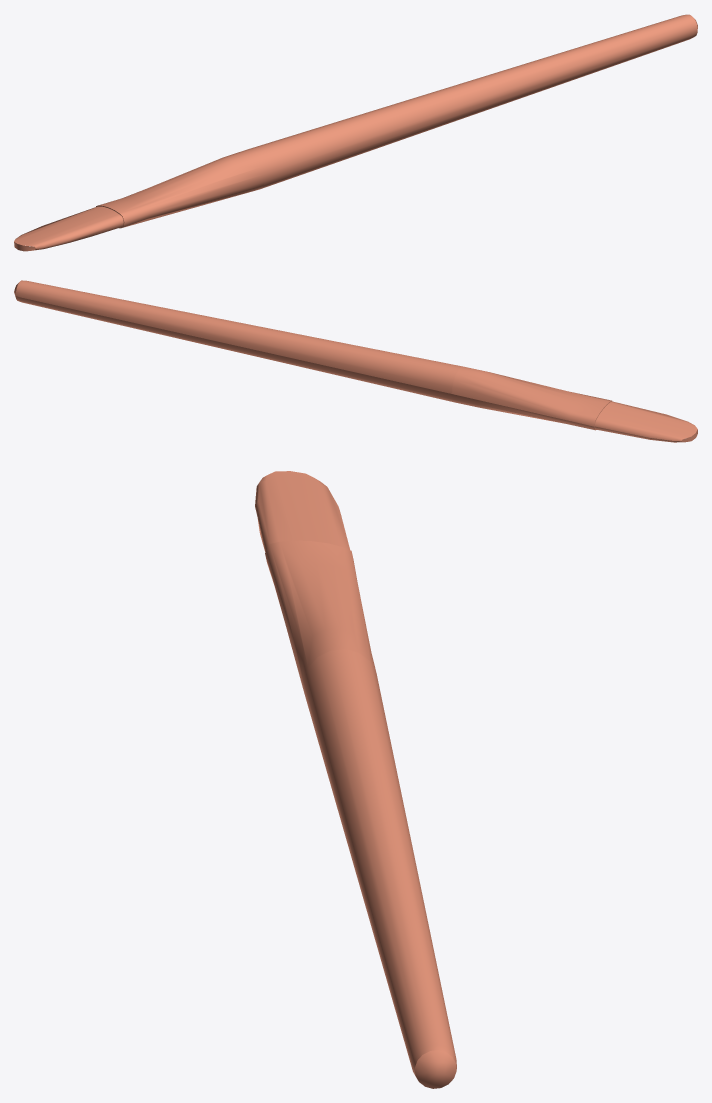
File: brush_copper.gltf
3 renders of one model, top to bottom at view 1: azimuth 30°, elevation 25°; view 2: azimuth 150°, elevation 25°; view 3: azimuth 270°, elevation 25°, orthographic. The views are drawn at different scales.
Parts seen in each view (by area): view 1: PaintBrush3_PaintBrush3_0; view 2: PaintBrush3_PaintBrush3_0; view 3: PaintBrush3_PaintBrush3_0.
Part boxes in pixels (x1,y1,x2,y2): PaintBrush3_PaintBrush3_0: [14, 14, 697, 251]; PaintBrush3_PaintBrush3_0: [14, 280, 697, 442]; PaintBrush3_PaintBrush3_0: [255, 471, 456, 1088].
Size of the model in its own units: 10.98 by 0.6085 by 1.49.
1 material, 1 textured.
